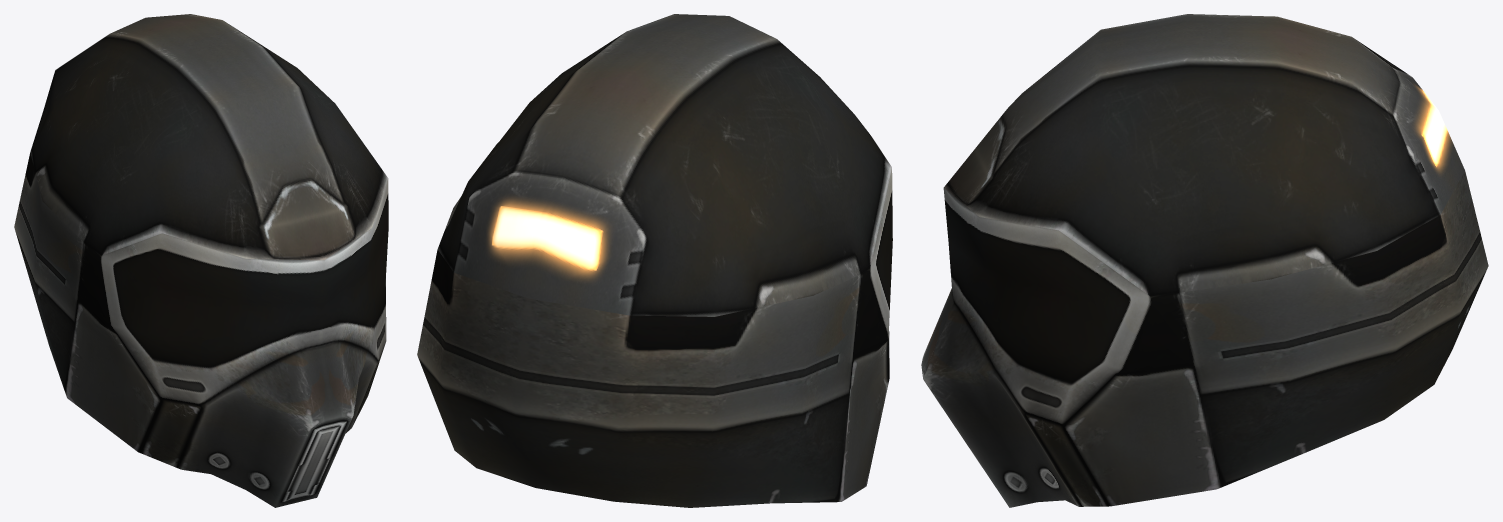
File: Enemy_Soldier_Helmet_3.fbx
3 views of the same model, side by side, from view 1: azimuth 30°, elevation 25°; view 2: azimuth 150°, elevation 25°; view 3: azimuth 270°, elevation 25° (orthographic). The views are drawn at different scales.
Parts seen in each view (by area): view 1: Enemy_Soldier_Helmet_3; view 2: Enemy_Soldier_Helmet_3; view 3: Enemy_Soldier_Helmet_3.
Boxes of the visible parts, x1,y1,x2,y2 form: Enemy_Soldier_Helmet_3: (14,14,388,507); Enemy_Soldier_Helmet_3: (417,14,892,507); Enemy_Soldier_Helmet_3: (921,14,1488,507).
Bounding box in the file's own units: 0.2719 × 0.3646 × 0.402.
